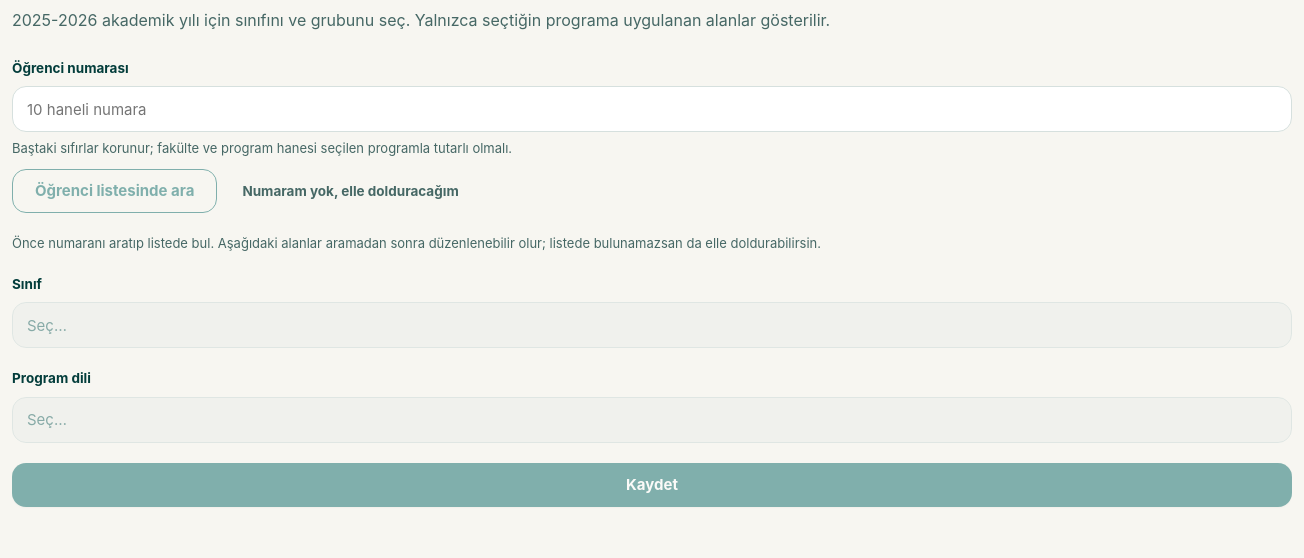
Test: AcademicProfileForm roster lookup › does not fill anything in when the number is on two lists
The image size is (1304, 558).
Type "0101240080" into the field labelled "Öğrenci numarası" at (652, 109), box x1=12 y1=86 x2=1292 y2=132
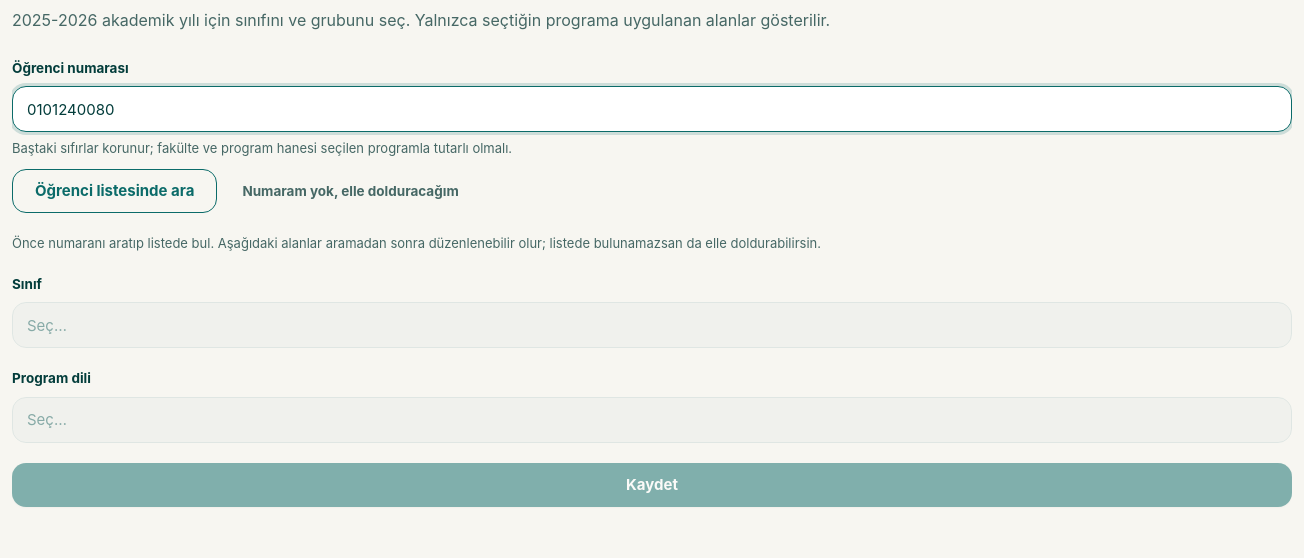
Click the button "Öğrenci listesinde ara" at (115, 191), box x1=12 y1=169 x2=217 y2=213
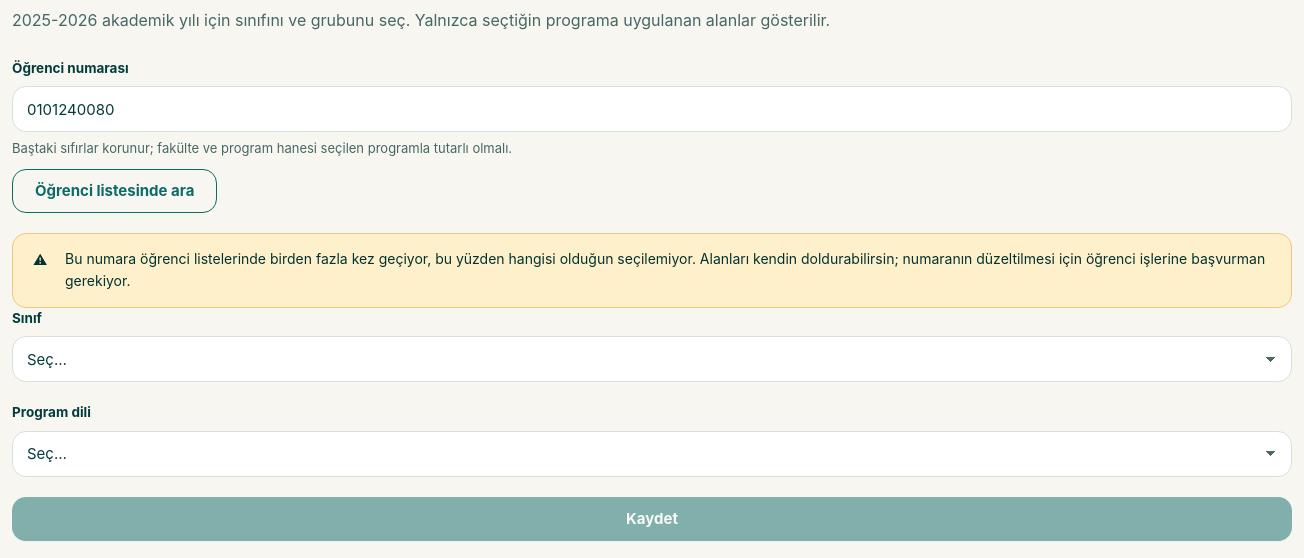
Check: the dropdown labelled "Sınıf" shows "Seç…", box x1=12 y1=336 x2=1292 y2=382
Check: the text "birden fazla kez geçiyor" is shown, box x1=65 y1=250 x2=1265 y2=289
